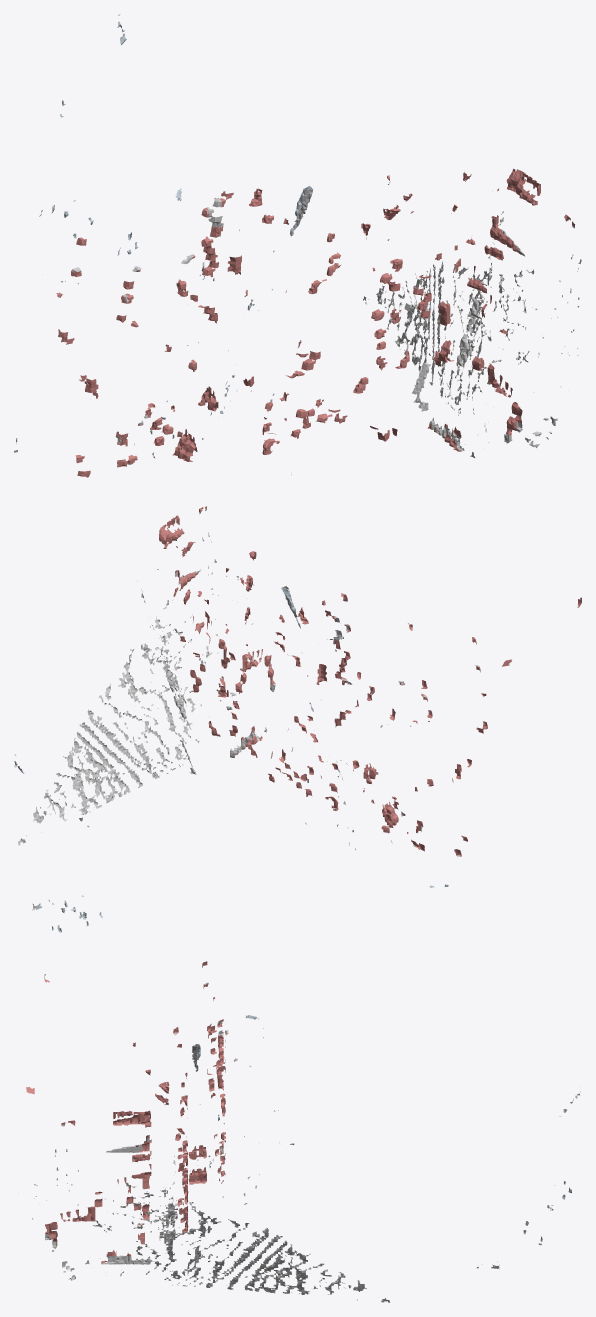
File: B173-날개__lt_dynnow_ALS_s0__removed.glb
3 views of the same model, one above another, from view 1: azimuth 30°, elevation 25°; view 2: azimuth 150°, elevation 25°; view 3: azimuth 270°, elevation 25° (orthographic). The views are drawn at different scales.
Size of the model in its own units: 16.03 by 9.01 by 24.31.
